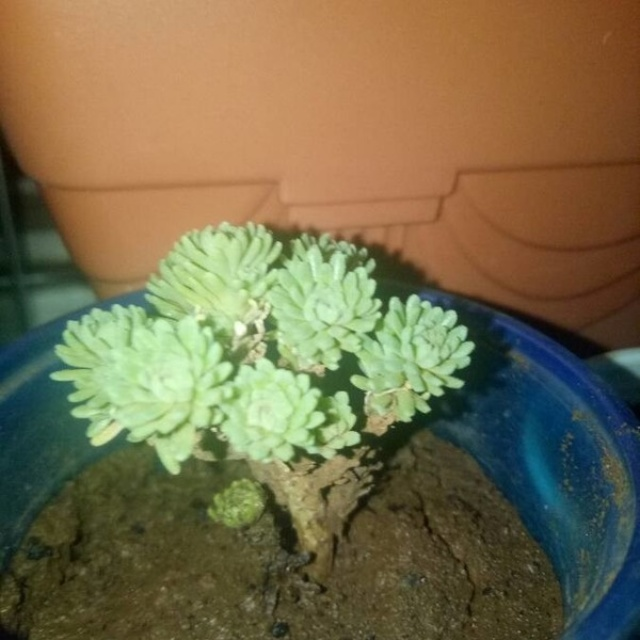obstacle: (46, 196, 592, 596)
